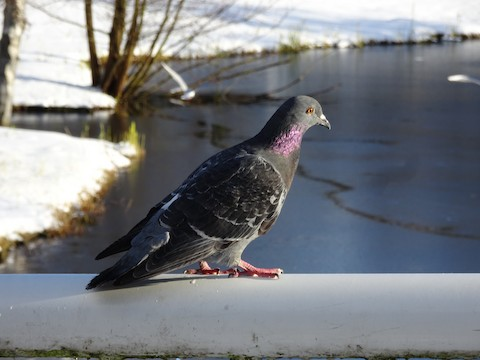pigeon: (85, 89, 337, 298)
